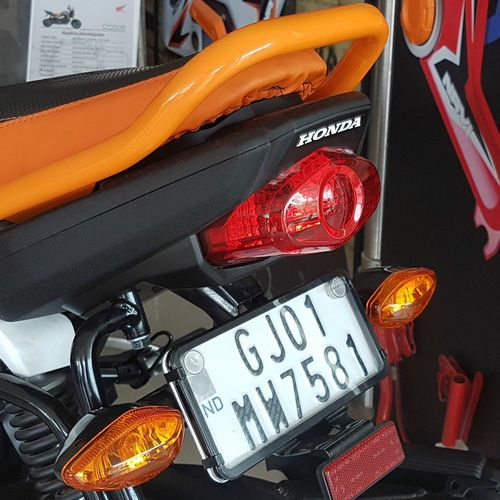doublelinenumberplate: (180, 267, 388, 478)
